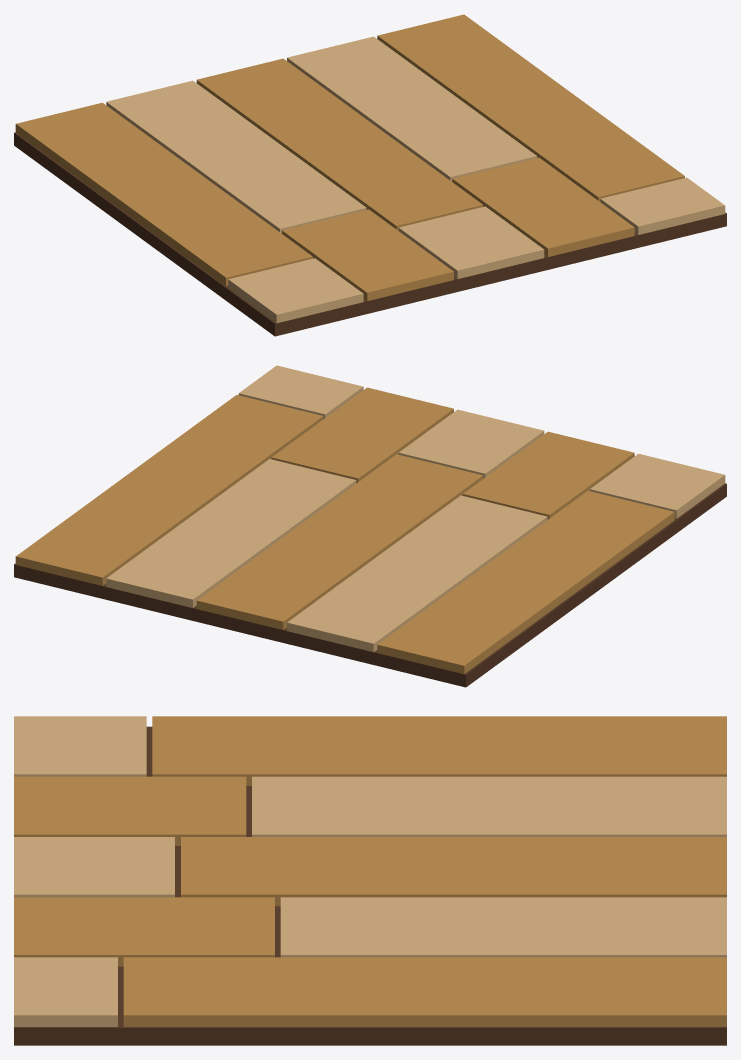
The model's file is SM_LPI_Struct_Floor_01.fbx.
The picture shows the model from 3 angles, top to bottom: view 1: azimuth 30°, elevation 25°; view 2: azimuth 150°, elevation 25°; view 3: azimuth 270°, elevation 25°; orthographic projection. The views are drawn at different scales.
Parts seen in each view (by area): view 1: SM_LPI_Struct_Floor_01; view 2: SM_LPI_Struct_Floor_01; view 3: SM_LPI_Struct_Floor_01.
Boxes of the visible parts, x1,y1,x2,y2 form: SM_LPI_Struct_Floor_01: (14, 14, 726, 336); SM_LPI_Struct_Floor_01: (14, 365, 726, 687); SM_LPI_Struct_Floor_01: (14, 716, 726, 1045).
Size of the model in its own units: 1 by 0.045 by 1.
